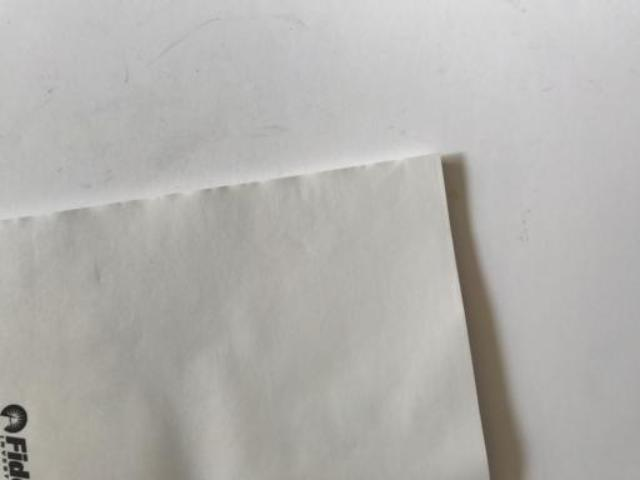cardboard paper: (0, 154, 486, 476)
